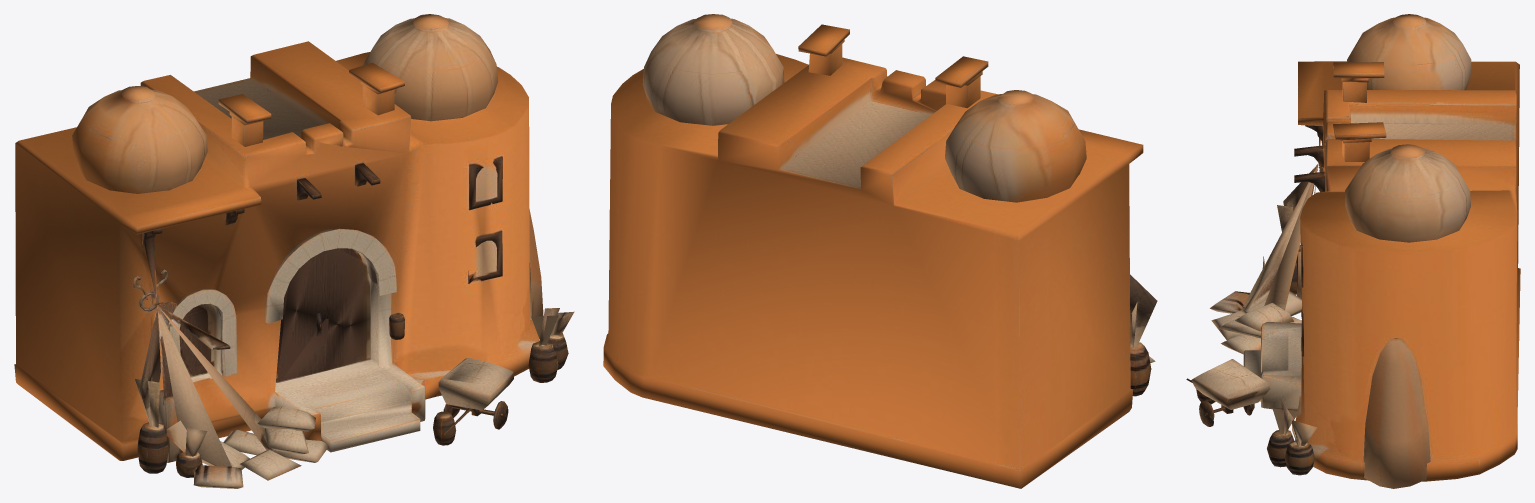
Rendered from granary.glb.
The picture shows the model from 3 angles, left to right: view 1: azimuth 30°, elevation 25°; view 2: azimuth 150°, elevation 25°; view 3: azimuth 270°, elevation 25°; orthographic projection. The views are drawn at different scales.
Bounding box in the file's own units: 0.9653 × 0.6436 × 0.6558.
Materials: 1 (1 with a texture image).
